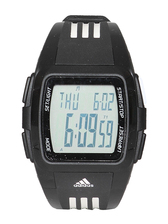watch: (15, 10, 149, 216)
